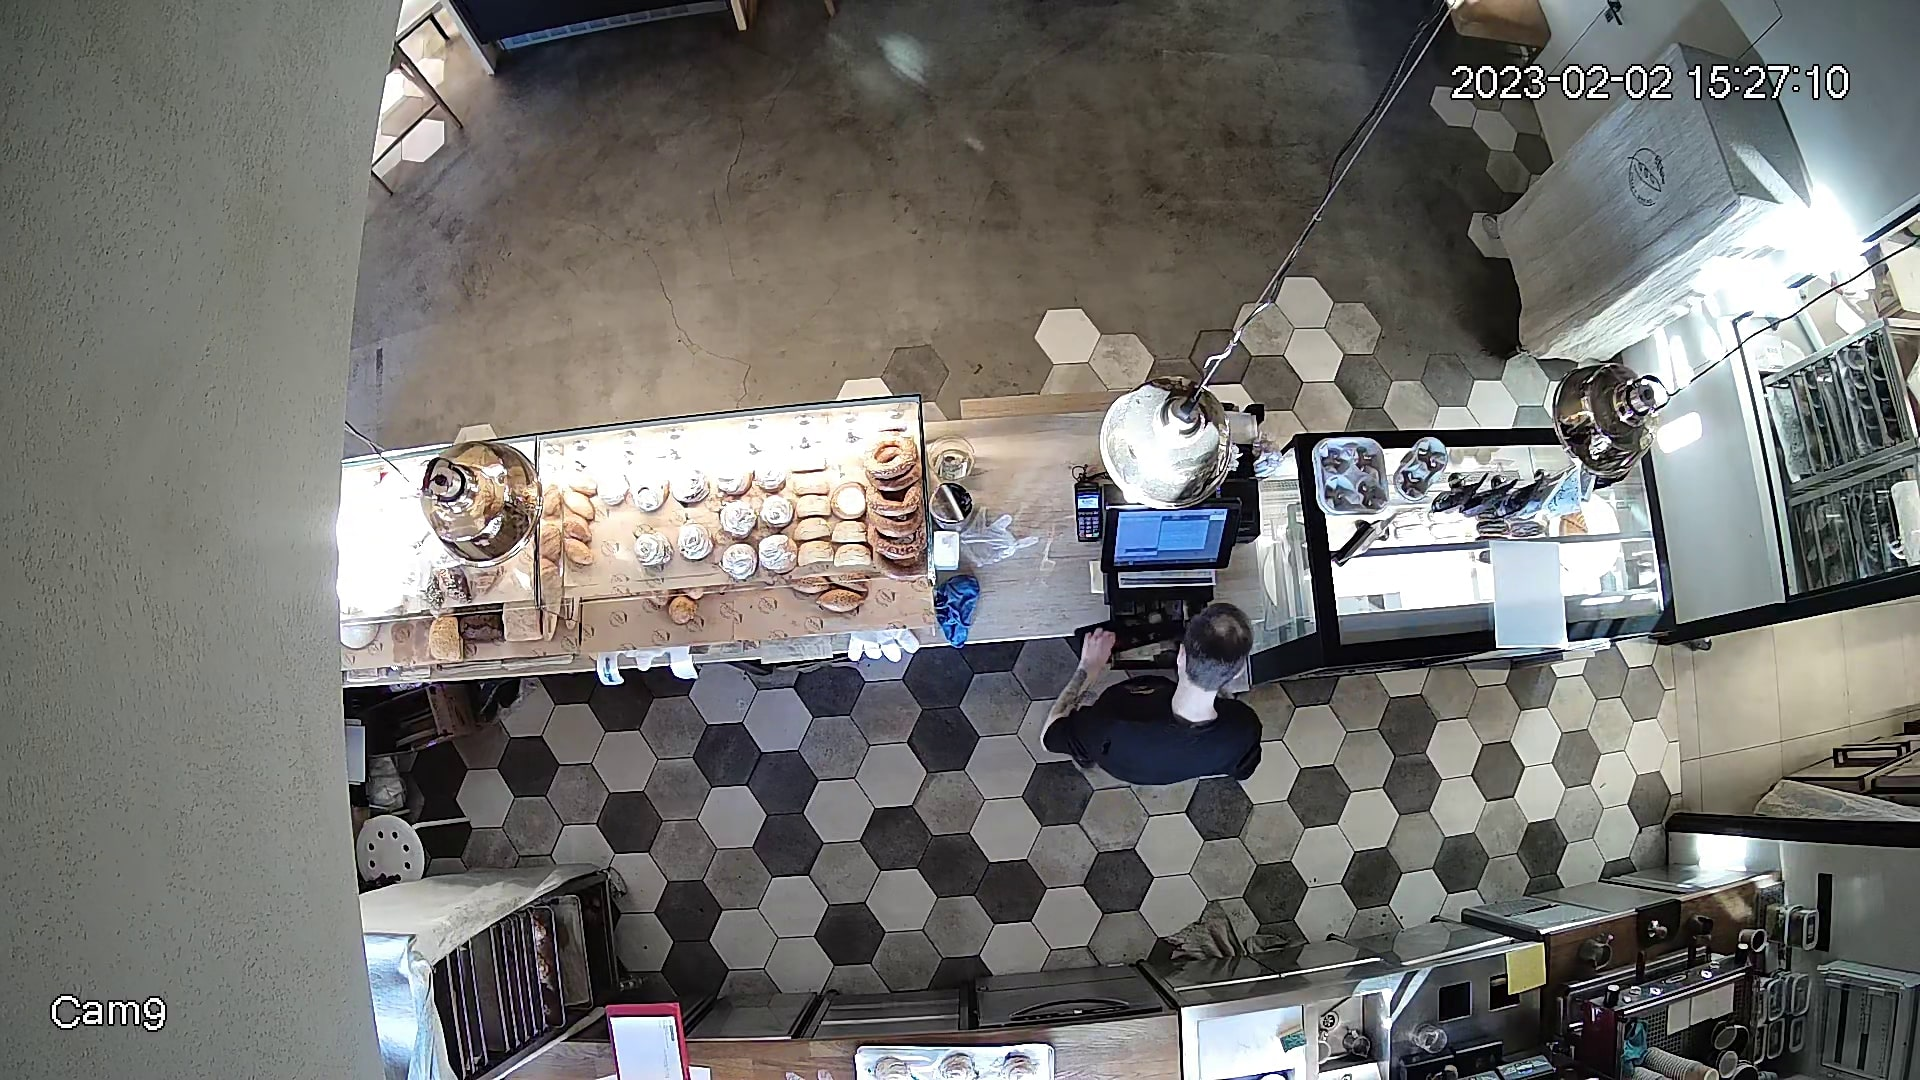barcounter: (346, 405, 1684, 648)
openedcash: (1104, 493, 1237, 675)
person: (1037, 625, 1300, 793)
